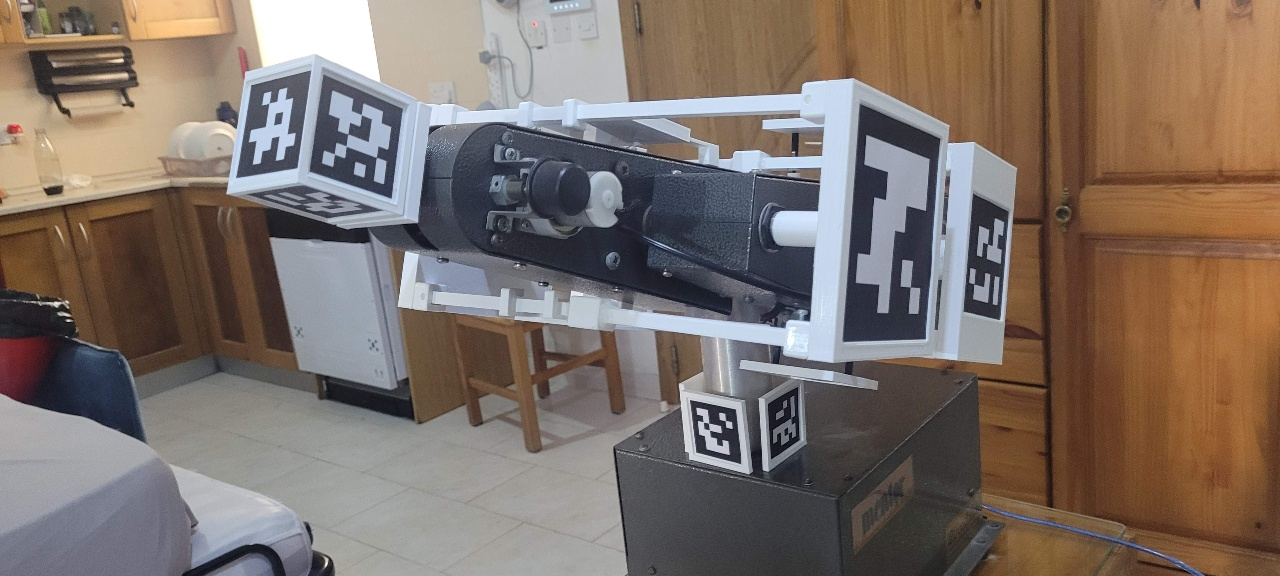Robot: (225, 51, 1018, 478)
